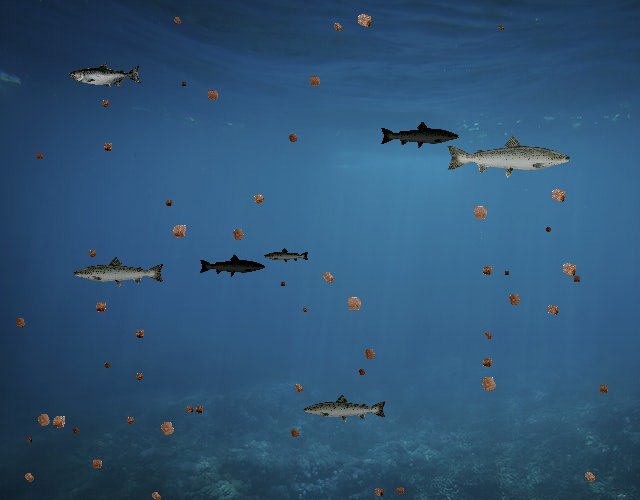Fish: (444, 133, 573, 179), (73, 255, 167, 289), (302, 393, 388, 424), (380, 121, 461, 150), (70, 62, 143, 88), (198, 253, 266, 278), (264, 248, 311, 265)
Pellet: (165, 217, 193, 245), (316, 265, 340, 289), (226, 222, 250, 246), (247, 187, 270, 210), (10, 312, 31, 333), (169, 13, 186, 30), (84, 246, 100, 262), (23, 434, 35, 446)
